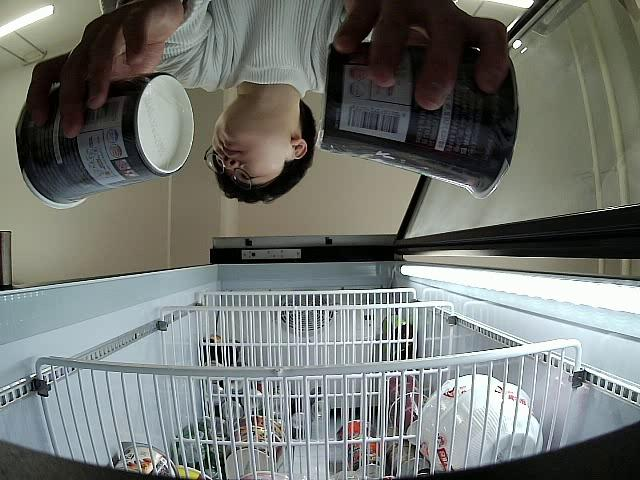00_hand: (23, 0, 198, 141), (329, 0, 511, 114)
08_buldak_S: (318, 38, 521, 201), (16, 70, 191, 210)
